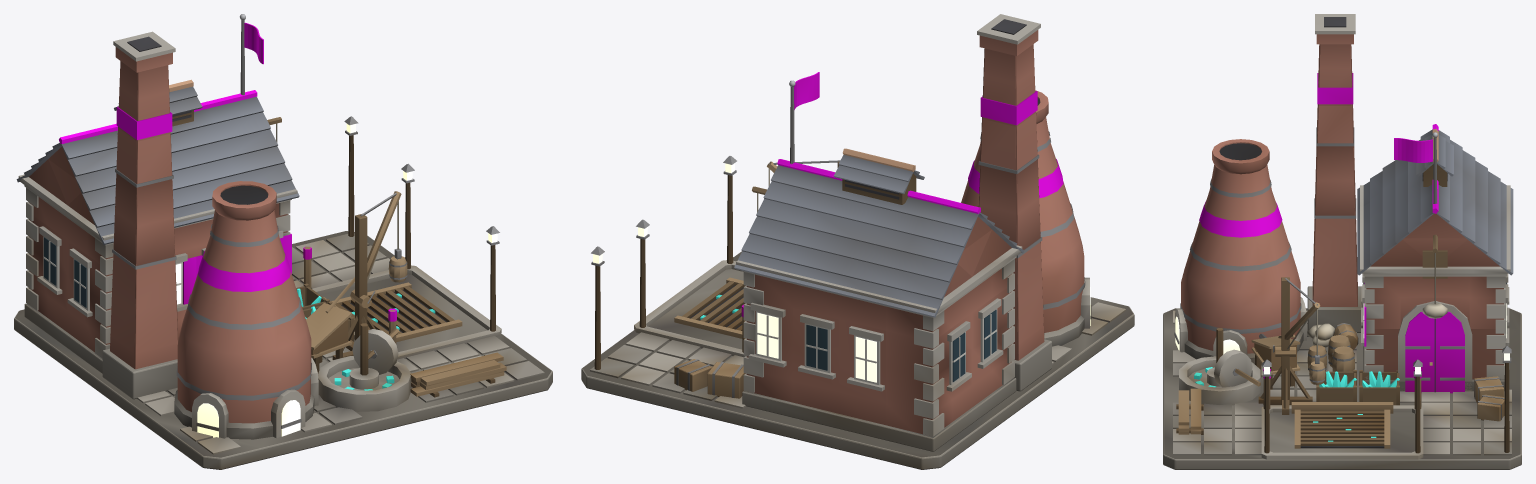
The model's file is refinery_gunpowder.glb.
3 views of the same model, side by side, from view 1: azimuth 30°, elevation 25°; view 2: azimuth 150°, elevation 25°; view 3: azimuth 270°, elevation 25° (orthographic). The views are drawn at different scales.
Parts seen in each view (by area): view 1: Body; view 2: Body; view 3: Body.
Boxes of the visible parts, x1,y1,x2,y2 form: Body: [14, 14, 552, 469]; Body: [581, 14, 1134, 469]; Body: [1163, 14, 1521, 469].
Bounding box in the file's own units: 6 × 5.74 × 6.
1 material, 1 textured.
